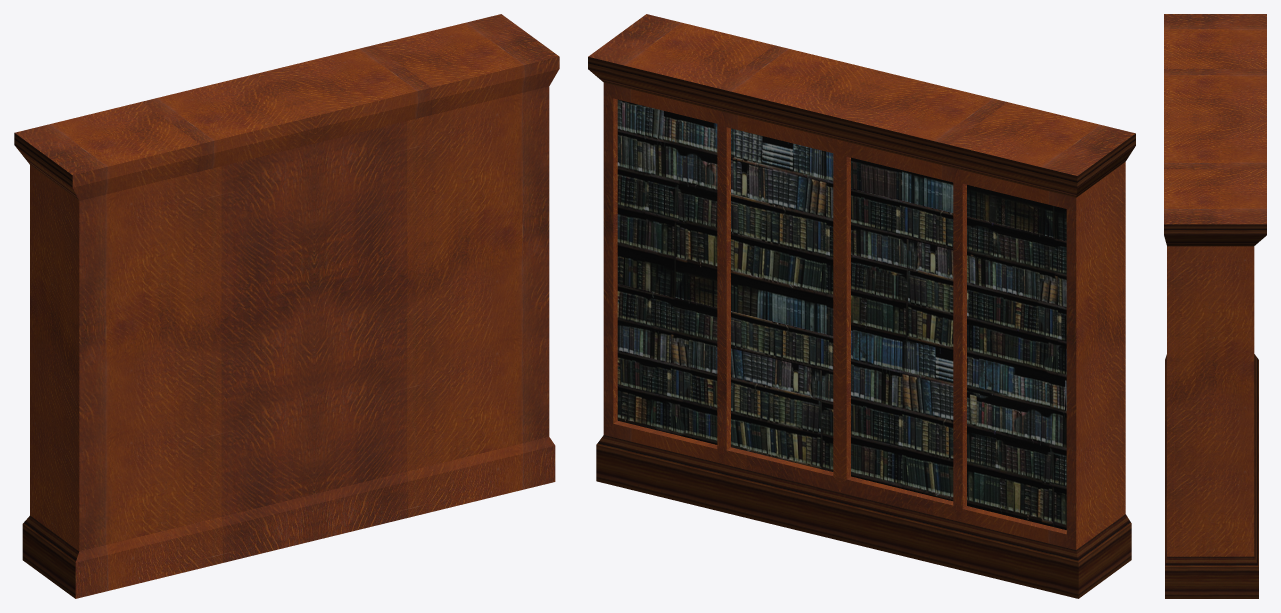
File: Bookcase_longbutshort1.fbx
3 views of the same model, side by side, from view 1: azimuth 30°, elevation 25°; view 2: azimuth 150°, elevation 25°; view 3: azimuth 270°, elevation 25° (orthographic). The views are drawn at different scales.
Parts seen in each view (by area): view 1: Bookcaselong2; view 2: Bookcaselong2; view 3: Bookcaselong2.
Part boxes in pixels (<box>): Bookcaselong2: <box>14,14,559,598</box>; Bookcaselong2: <box>588,14,1135,598</box>; Bookcaselong2: <box>1164,14,1266,598</box>.
Bounding box in the file's own units: 405 × 338 × 83.72.
